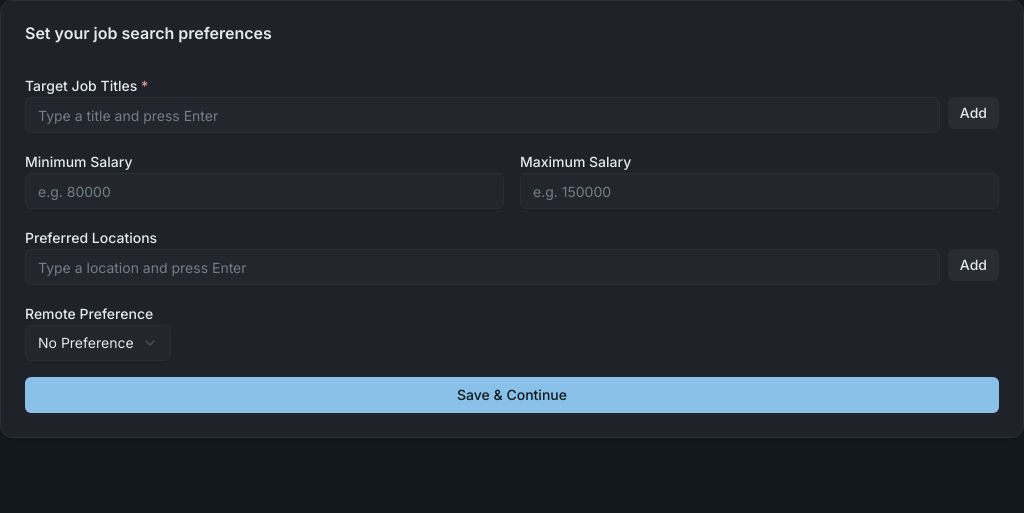
PreferencesStep › [P0] should show error when salary min > max
// Add a title first to pass that validation
Type "Engineer" into the field labelled "Target Job Titles *" at coordinates (482, 115), box [25,97,940,133]
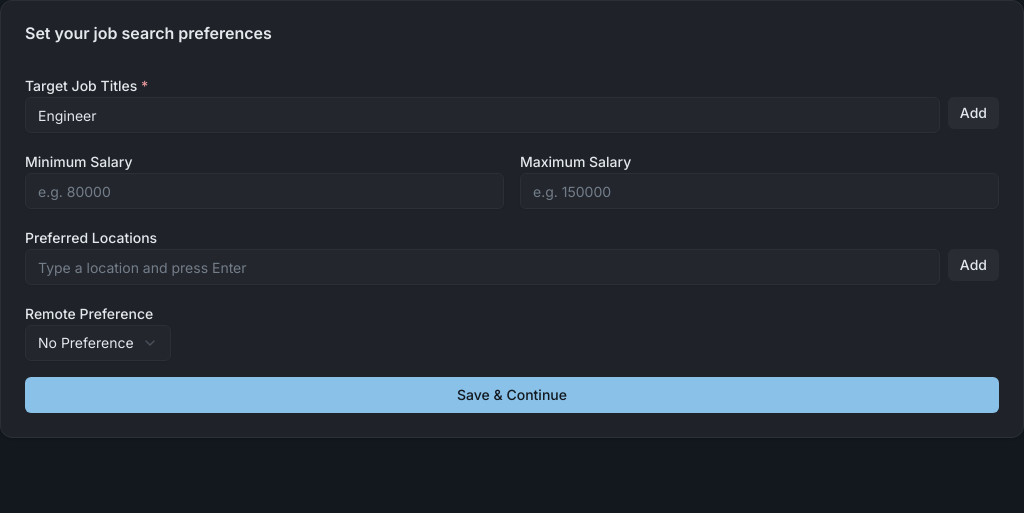
Press Enter in the field labelled "Target Job Titles *", box [25,97,940,133]
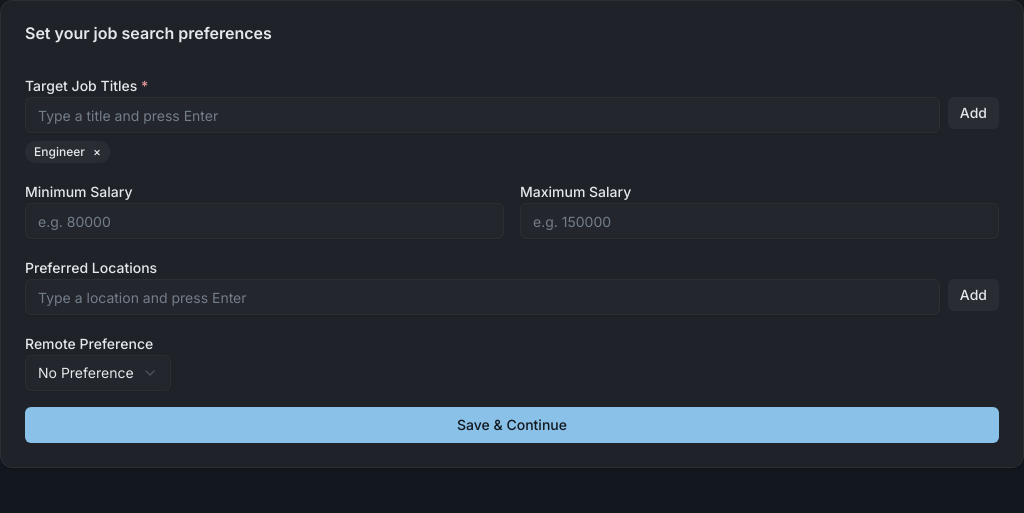
Type "200000" into the number field labelled "Minimum Salary" at coordinates (264, 221), box [25,203,504,239]
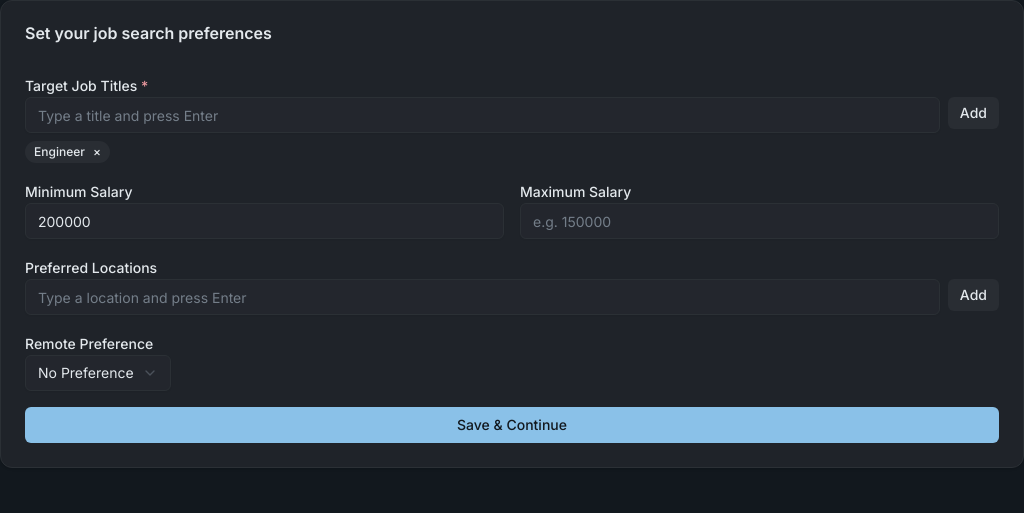
Type "100000" into the number field labelled "Maximum Salary" at coordinates (760, 221), box [520,203,999,239]
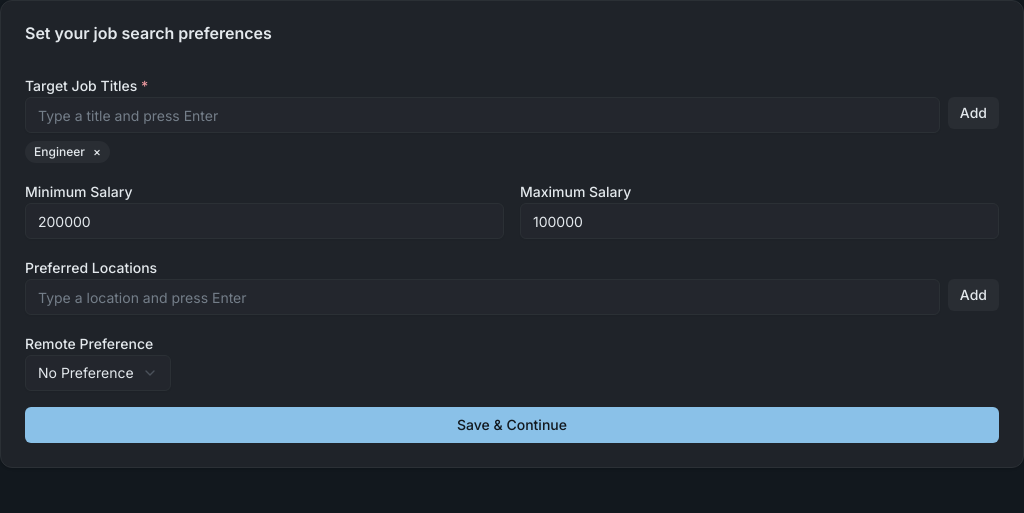
Click the button "Save & Continue" at coordinates (512, 425), box [25,407,999,443]
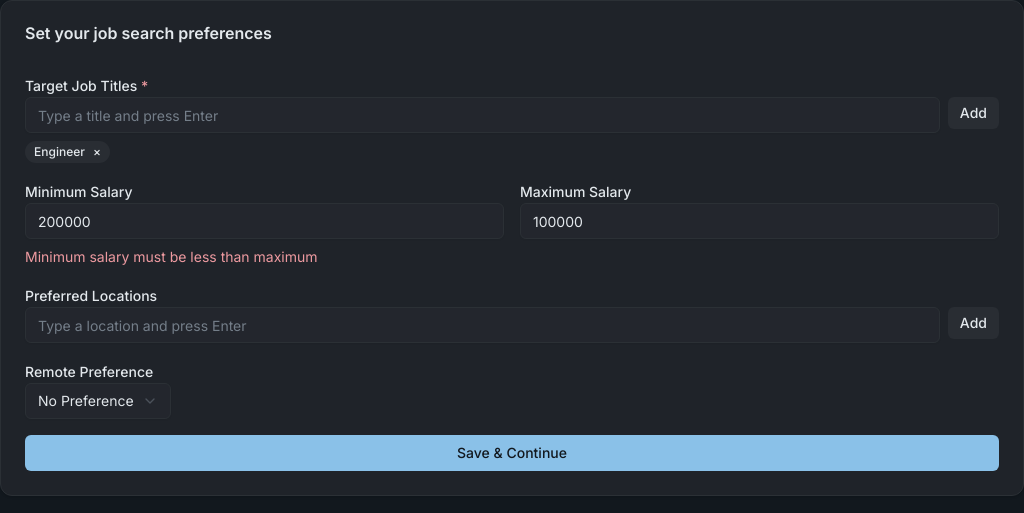
Expected: the text "Minimum salary must be less than maximum" is shown, [25,248,318,265]
